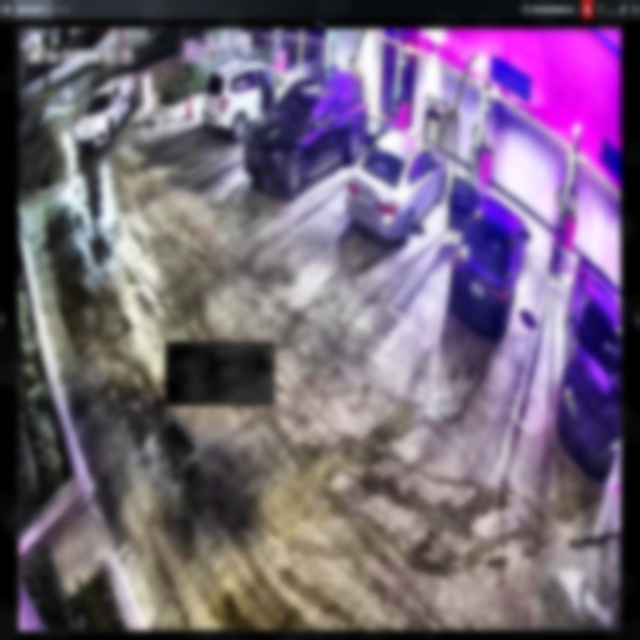Car: (243, 68, 367, 193), (445, 176, 531, 338), (346, 126, 444, 244), (202, 60, 296, 142), (75, 74, 135, 151)
